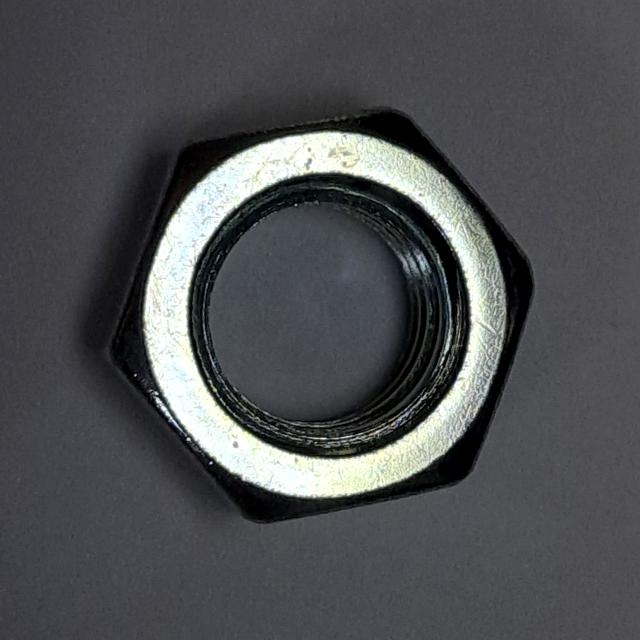Excellent: (81, 89, 548, 539)
